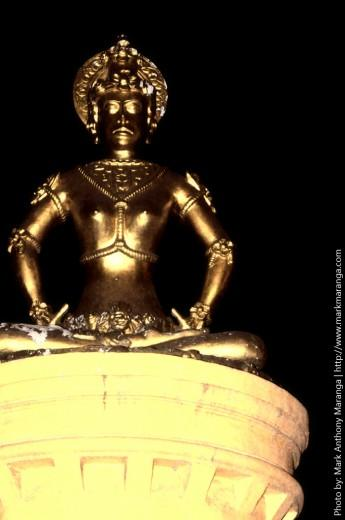golden_tara_of_agusan: (0, 30, 271, 378)
